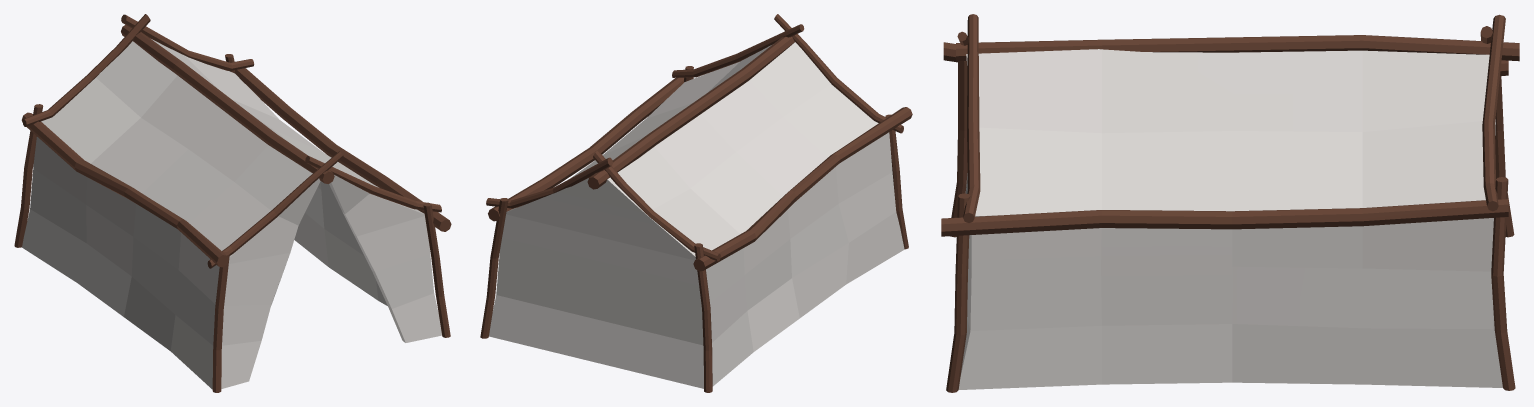
The model's file is Tent_3.fbx.
The picture shows the model from 3 angles, left to right: view 1: azimuth 30°, elevation 25°; view 2: azimuth 150°, elevation 25°; view 3: azimuth 270°, elevation 25°; orthographic projection. The views are drawn at different scales.
Parts seen in each view (by area): view 1: Tent_4; view 2: Tent_4; view 3: Tent_4.
Part boxes in pixels (x1,y1,x2,y2): Tent_4: (14, 14, 451, 392); Tent_4: (480, 14, 912, 392); Tent_4: (941, 14, 1519, 392).
Bounding box in the file's own units: 4.25 × 3.59 × 6.45.
